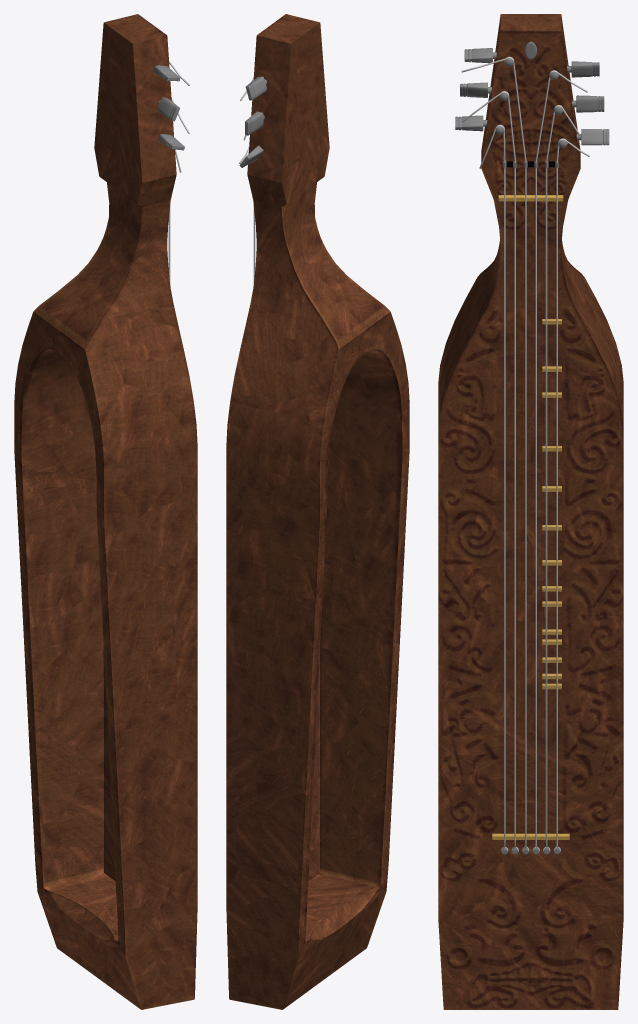
File: sape.glb
3 views of the same model, side by side, from view 1: azimuth 30°, elevation 25°; view 2: azimuth 150°, elevation 25°; view 3: azimuth 270°, elevation 25° (orthographic). The views are drawn at different scales.
Visible parts, largest first — view 1: CT6_BAND_INSTRUMENT_EXPORT; view 2: CT6_BAND_INSTRUMENT_EXPORT; view 3: CT6_BAND_INSTRUMENT_EXPORT.
Part boxes in pixels (bbox=[...]): CT6_BAND_INSTRUMENT_EXPORT: bbox=[14, 14, 197, 1009]; CT6_BAND_INSTRUMENT_EXPORT: bbox=[226, 14, 409, 1009]; CT6_BAND_INSTRUMENT_EXPORT: bbox=[438, 14, 623, 1009].
Size of the model in its own units: 0.1354 by 1.24 by 0.214.
1 material, 1 textured.
